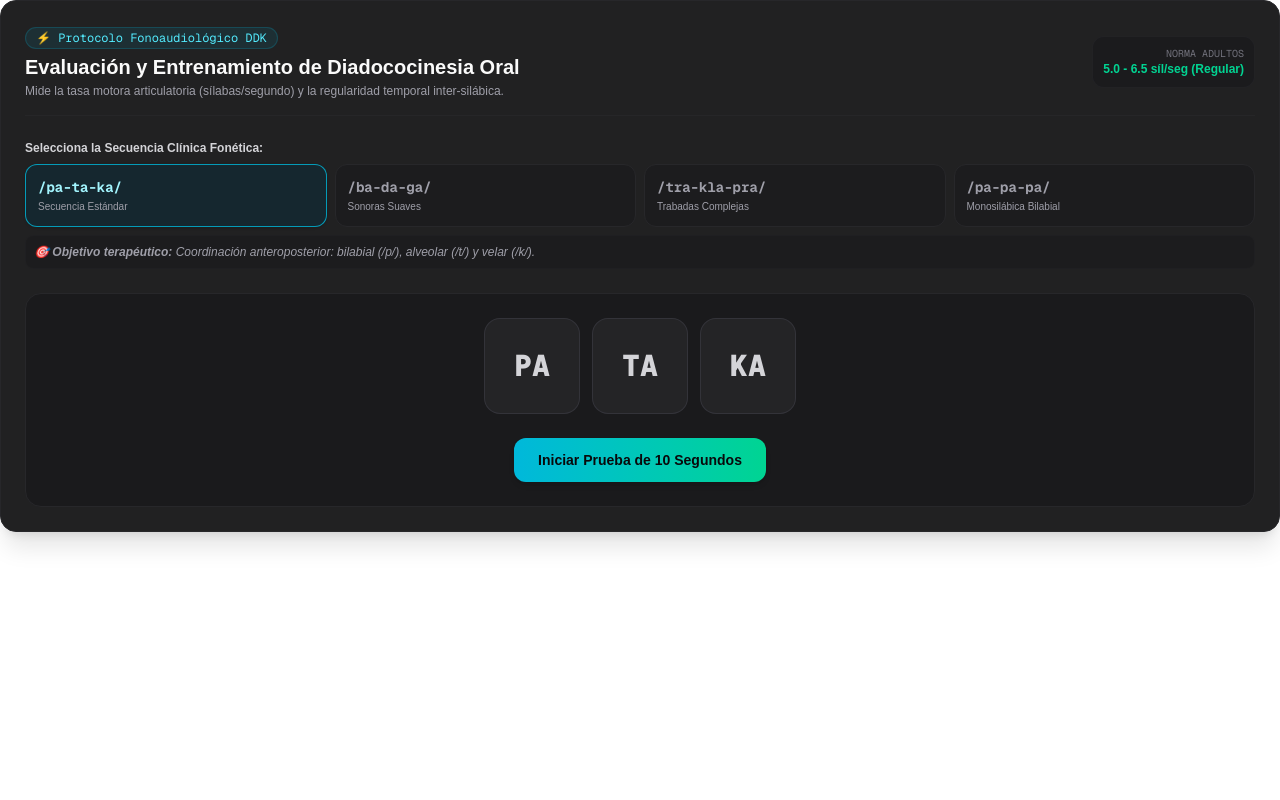
Scenario: DiadochokinesisTrainer Component › debe cambiar la secuencia fonética seleccionada al hacer clic en otra opción
Click the text "/ba-da-ga/".
click(390, 187)  # box x1=348 y1=178 x2=432 y2=196
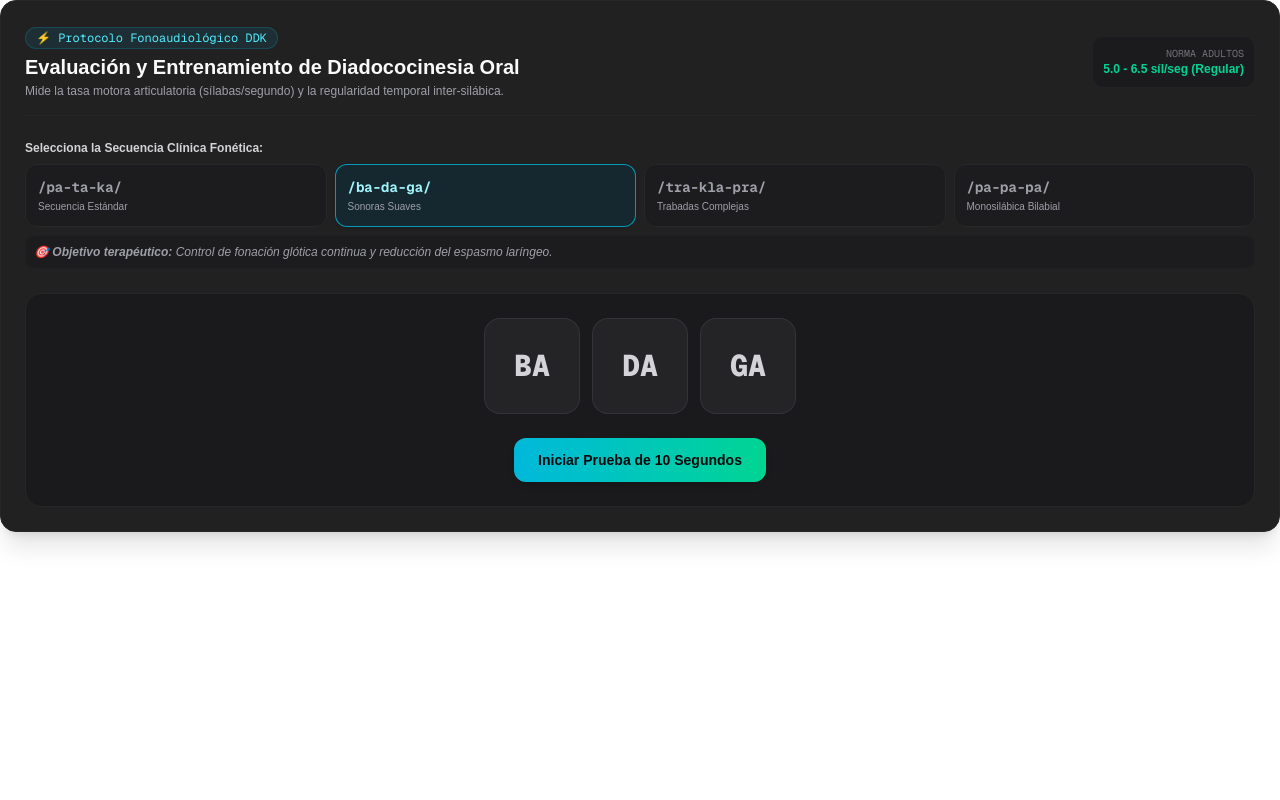
Expected: the text "ba" is shown, x1=484 y1=318 x2=580 y2=414
Expected: the text "da" is shown, x1=592 y1=318 x2=688 y2=414
Expected: the text "ga" is shown, x1=700 y1=318 x2=796 y2=414
